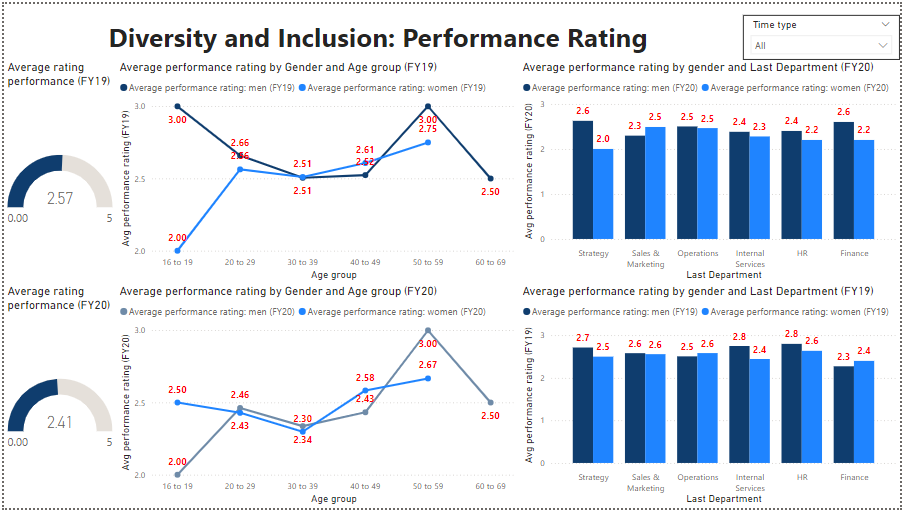

The dashboard page shown, as its layout file describes it:
{"tool":"powerbi","page":{"name":"Performance Rating","canvas":[1280,720],"ordinal":2},"visuals":[{"type":"lineChart","title":"Average performance rating by Gender and Age group (FY20)","fields":{"Category":["Pharma Group AG.Age group"],"Y":["Pharma Group AG.Average performance rating: men (FY20)","Pharma Group AG.Average performance rating: women (FY20)"]},"box":[160,400,576,320],"z":0},{"type":"lineChart","title":"Average performance rating by Gender and Age group (FY19)","fields":{"Category":["Pharma Group AG.Age group"],"Y":["Pharma Group AG.Average performance rating: men (FY19)","Pharma Group AG.Average performance rating: women (FY19)"]},"box":[160,80,576,320],"z":1000},{"type":"clusteredColumnChart","title":"Average performance rating by gender and Last Department (FY20)","fields":{"Y":["Pharma Group AG.Average performance rating: men (FY20)","Pharma Group AG.Average performance rating: women (FY20)"],"Category":["Pharma Group AG.Last Department in FY20"]},"box":[736,80,544,320],"z":2000},{"type":"clusteredColumnChart","title":"Average performance rating by gender and Last Department (FY19)","fields":{"Category":["Pharma Group AG.Last Department in FY20"],"Y":["Pharma Group AG.Average performance rating: men (FY19)","Pharma Group AG.Average performance rating: women (FY19)"]},"box":[736,400,544,320],"z":3000},{"type":"gauge","title":"Average rating performance (FY19) ","fields":{"Y":["Pharma Group AG.Average rating performance (FY19)"],"MaxValue":["Pharma Group AG.Max performance rating"]},"box":[0,80,160,320],"z":4000},{"type":"gauge","title":"Average rating performance (FY20) ","fields":{"Y":["Pharma Group AG.Average rating performance (FY20)"],"MaxValue":["Pharma Group AG.Max performance rating"]},"box":[0,400,160,320],"z":5000},{"type":"slicer","fields":{"Values":["Pharma Group AG.Time type"]},"box":[1056,16,224,64],"z":6000},{"type":"textbox","box":[144,16,832,64],"z":8000}]}

Visuals, with their boxes in screenshot pixels (x1, y1, x2, y2), scaled from the page's 1280x720 canvas onto the 905x514 screenshot:
"Average performance rating by Gender and Age group (FY20)" lineChart: x1=113, y1=286, x2=520, y2=513
"Average performance rating by Gender and Age group (FY19)" lineChart: x1=113, y1=57, x2=520, y2=286
"Average performance rating by gender and Last Department (FY20)" clusteredColumnChart: x1=520, y1=57, x2=904, y2=286
"Average performance rating by gender and Last Department (FY19)" clusteredColumnChart: x1=520, y1=286, x2=904, y2=513
"Average rating performance (FY19) " gauge: x1=0, y1=57, x2=113, y2=286
"Average rating performance (FY20) " gauge: x1=0, y1=286, x2=113, y2=513
slicer - Pharma Group AG.Time type: x1=747, y1=11, x2=904, y2=57
textbox: x1=102, y1=11, x2=690, y2=57
